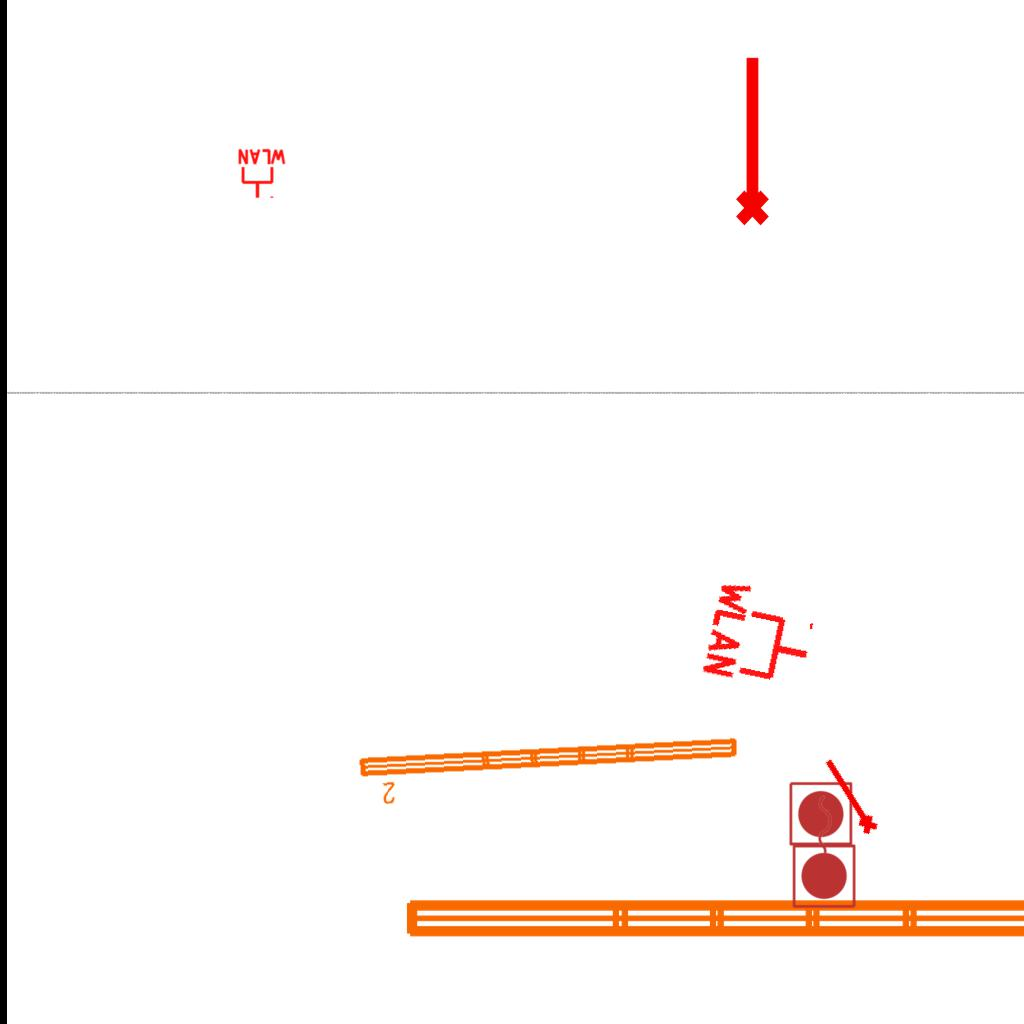ASR_Ansaugoeffnung: (727, 52, 773, 228), (815, 753, 883, 840)
Ambulanz_Pendelleuchte_LED: (396, 837, 1024, 949), (354, 731, 745, 809)
WLAN: (699, 574, 824, 698), (236, 148, 288, 200)
Zugtaster: (784, 778, 856, 900), (789, 790, 861, 912)
